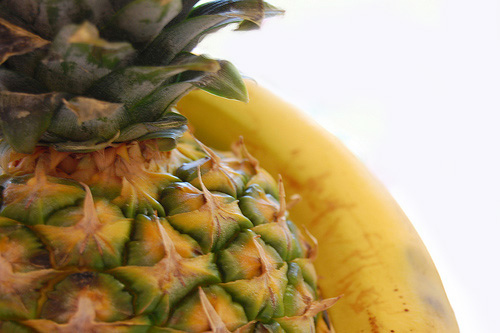pineapple: (0, 0, 344, 332)
